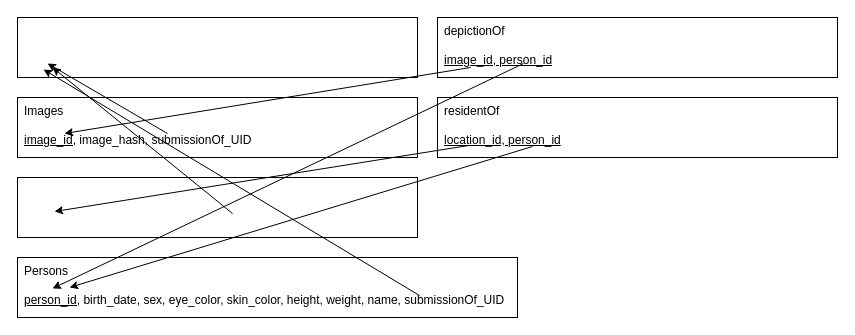
This 855x335 diagram has some shape labels left out. Each missing label, with the centre of its shape:
Locations location_id, location_type, address, submissionOf_UID: the point at 217,207
Users user_id, password_hash, creation_date, email_address: the point at 217,47
